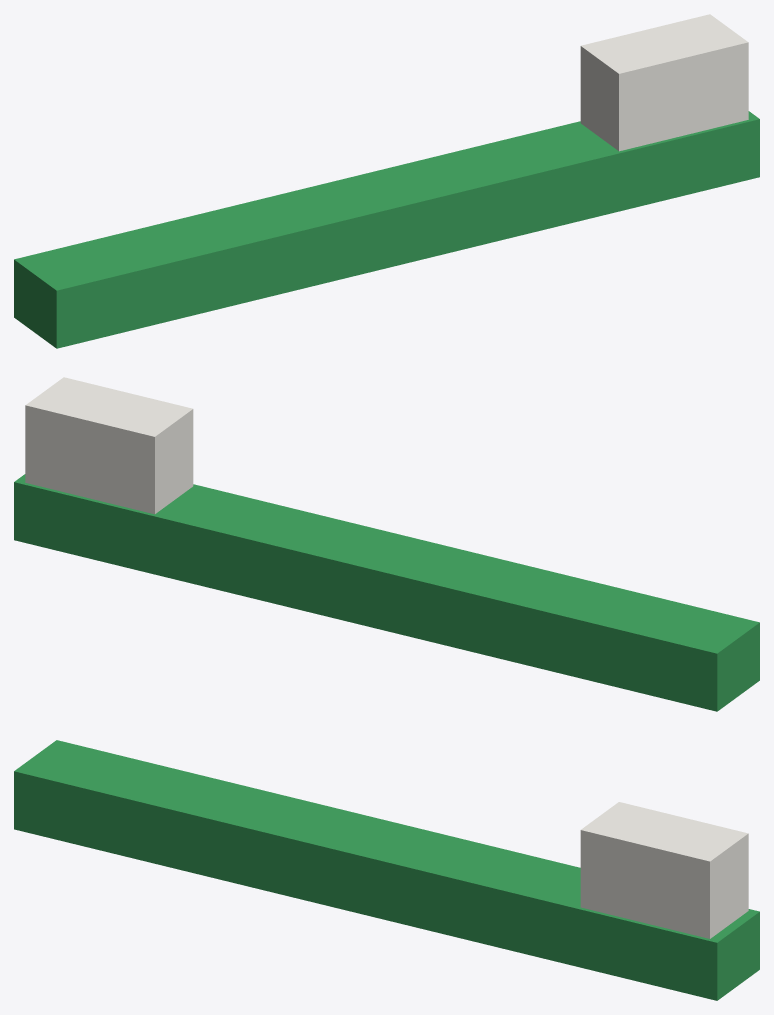
The model's file is toothbrush.glb.
The picture shows the model from 3 angles, top to bottom: view 1: azimuth 30°, elevation 25°; view 2: azimuth 150°, elevation 25°; view 3: azimuth 330°, elevation 25°; orthographic projection.
Parts seen in each view (by area): view 1: handle_brush_green, bristles_white; view 2: handle_brush_green, bristles_white; view 3: handle_brush_green, bristles_white.
Boxes of the visible parts, <box> form: handle_brush_green: <box>14,111,759,348</box>; bristles_white: <box>580,14,748,151</box>; handle_brush_green: <box>14,474,759,711</box>; bristles_white: <box>25,377,193,514</box>; handle_brush_green: <box>14,740,759,1000</box>; bristles_white: <box>580,802,748,938</box>.
Size of the model in its own units: 0.19 by 0.035 by 0.02.
